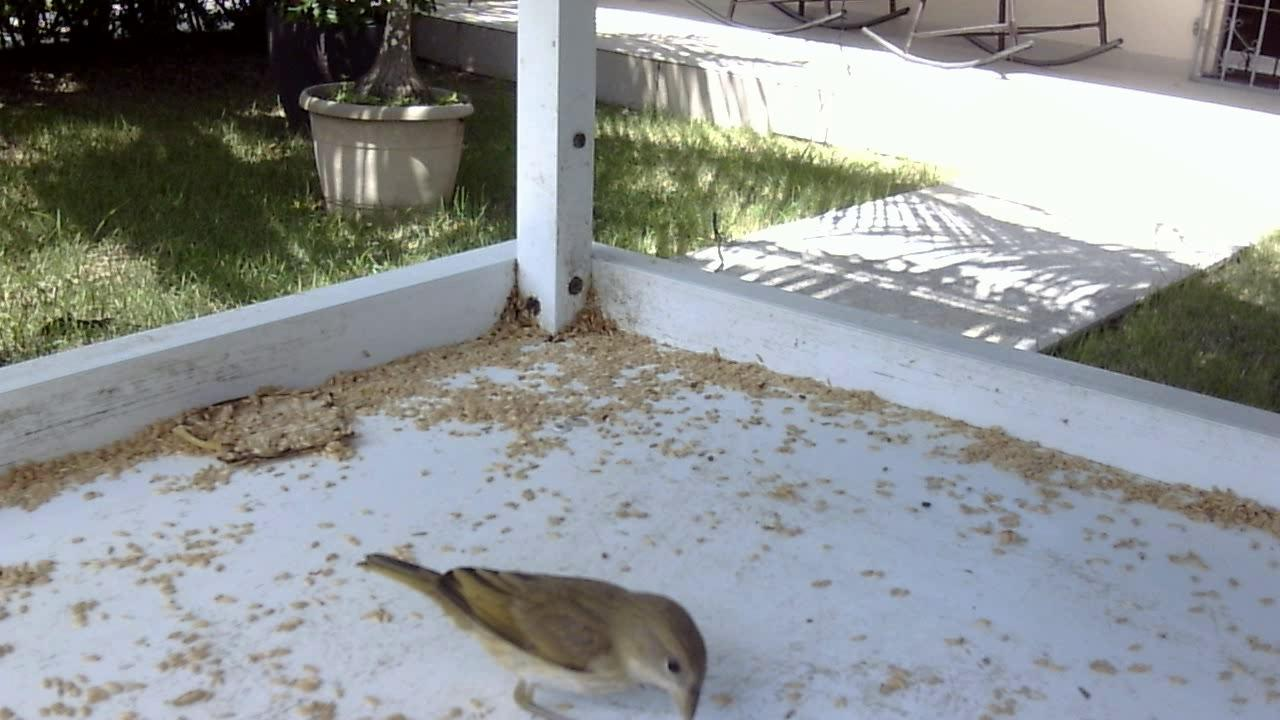canario_do_amazonas: (356, 551, 707, 716)
